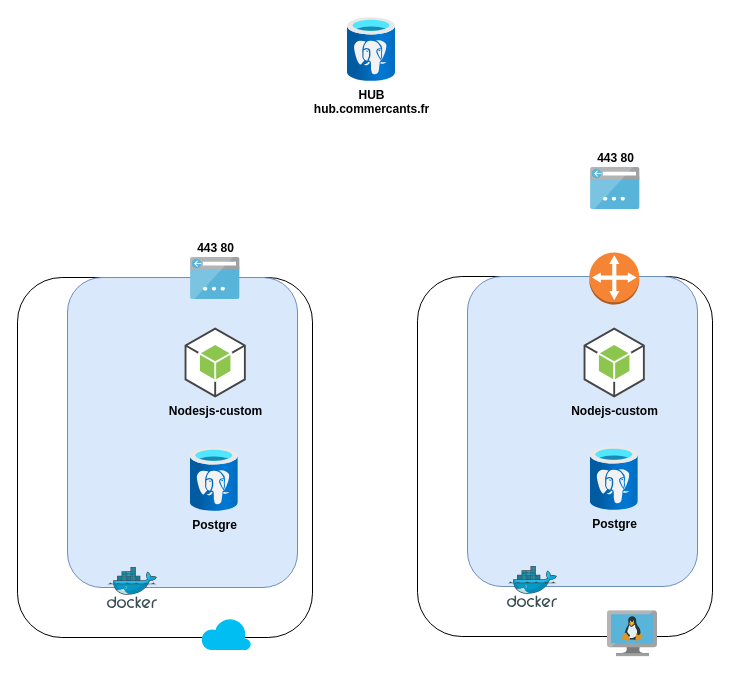
Image size: 730x695. Some labels were removed from this diagram. The shapes that lost their labels are listed below. From the top down, each one's centre as x and y in pixels, then its label:
At (x=613, y=278): "Gateway NAT 80 443".
At (x=225, y=633): "Public cloud".
At (x=632, y=633): "Host".
